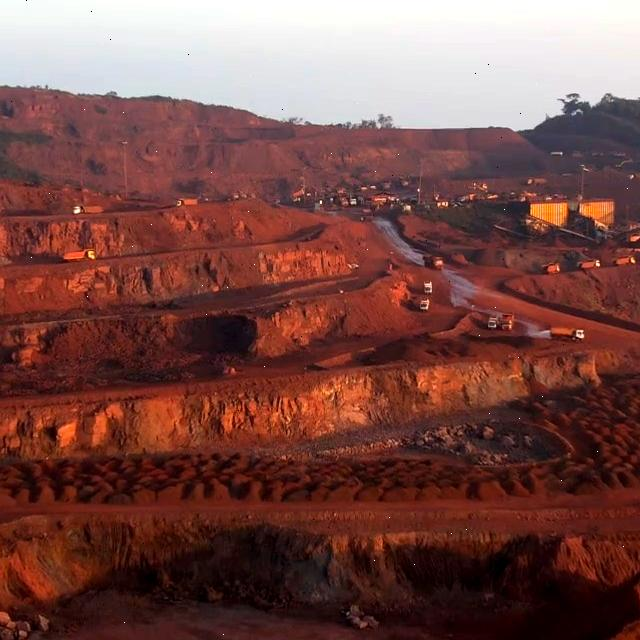Dumper truck: (64, 250, 95, 260), (74, 204, 104, 214), (424, 255, 444, 268), (543, 261, 561, 274), (578, 259, 600, 269), (614, 257, 636, 266), (176, 198, 197, 206)
car: (485, 313, 501, 330), (420, 298, 430, 312), (422, 282, 432, 296)
